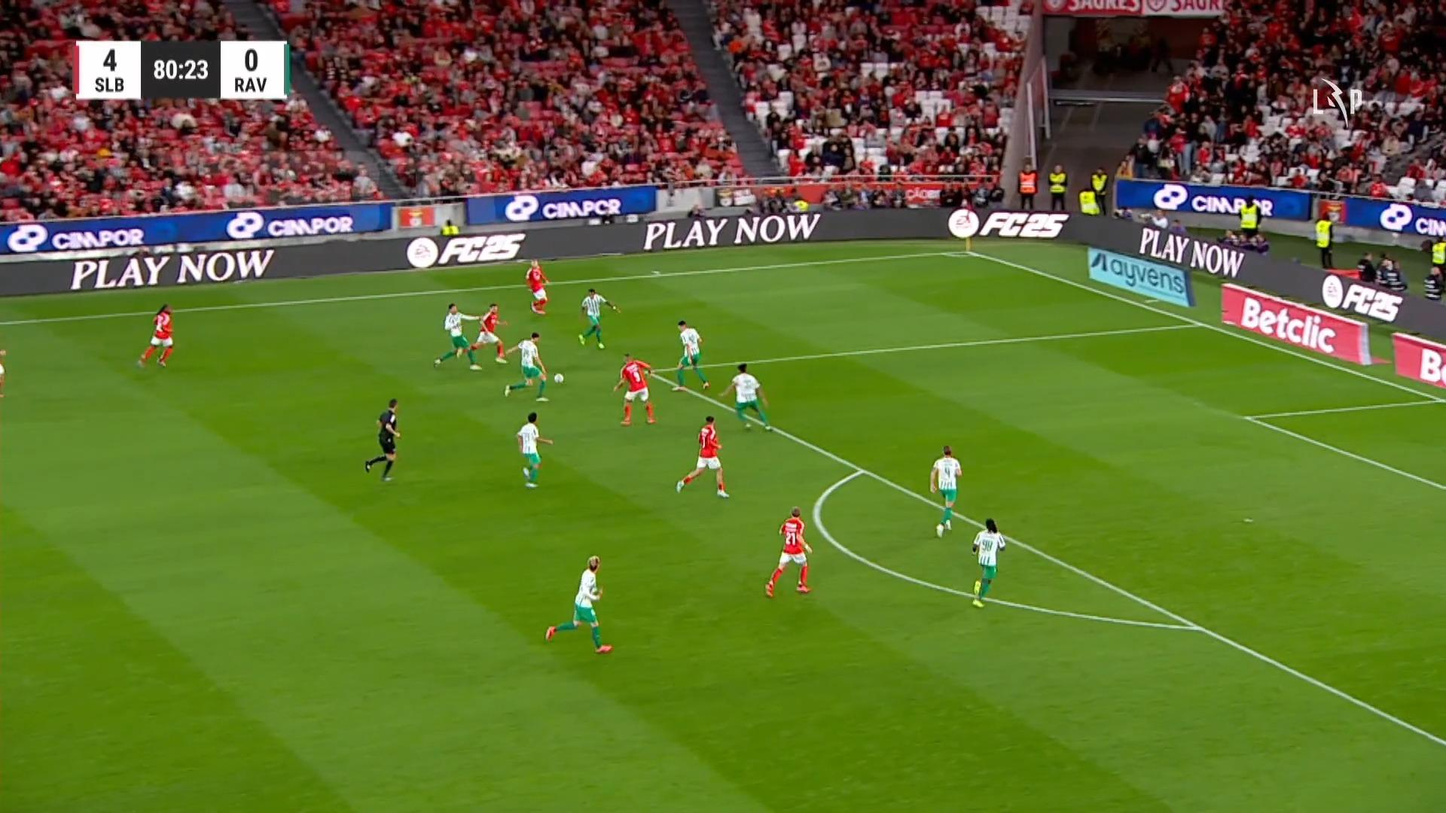ball: (553, 373, 563, 383)
player: (544, 554, 613, 653), (764, 505, 813, 598), (675, 415, 729, 498), (718, 361, 773, 431), (502, 330, 551, 402), (432, 302, 483, 370), (612, 352, 656, 425), (970, 517, 1005, 607), (929, 444, 962, 537), (515, 411, 554, 488), (671, 319, 710, 391), (576, 287, 619, 349), (467, 303, 508, 365), (136, 303, 174, 368), (524, 258, 550, 314), (0, 348, 7, 398)
referee: (364, 397, 401, 481)
